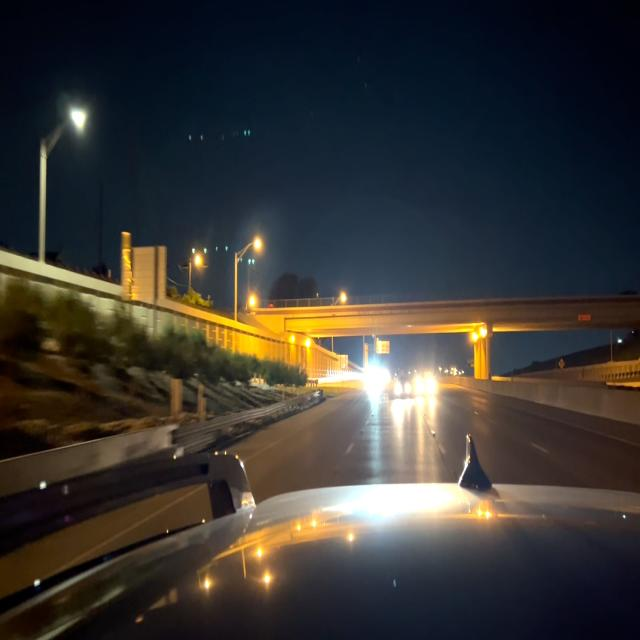back-of-sign: (122, 247, 166, 299), (123, 233, 129, 246)
